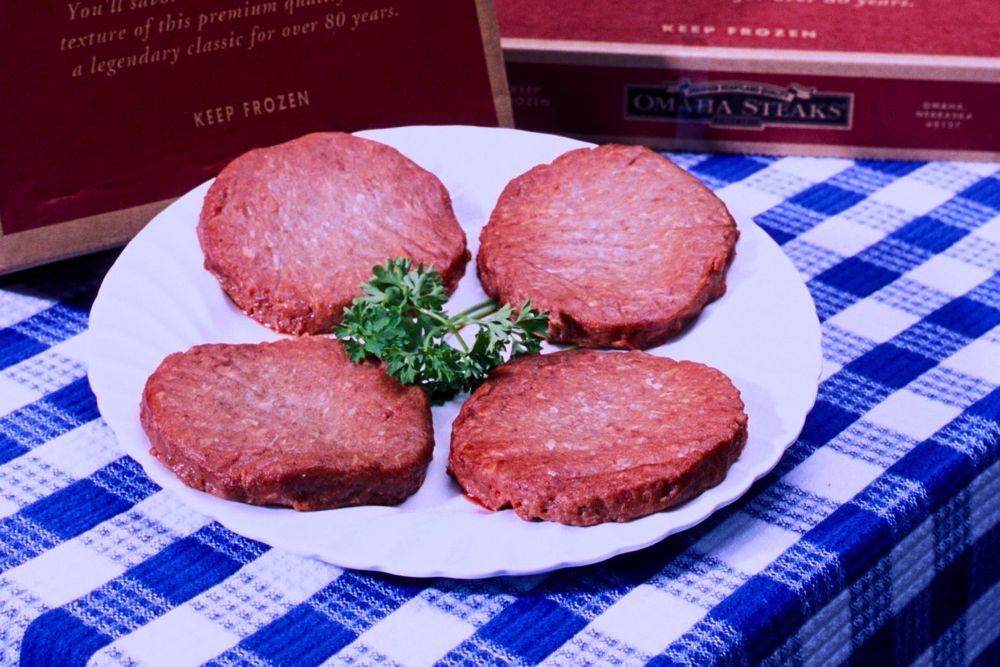ground_beef: (464, 121, 773, 351), (449, 331, 748, 545), (138, 334, 447, 520), (213, 131, 469, 335)
